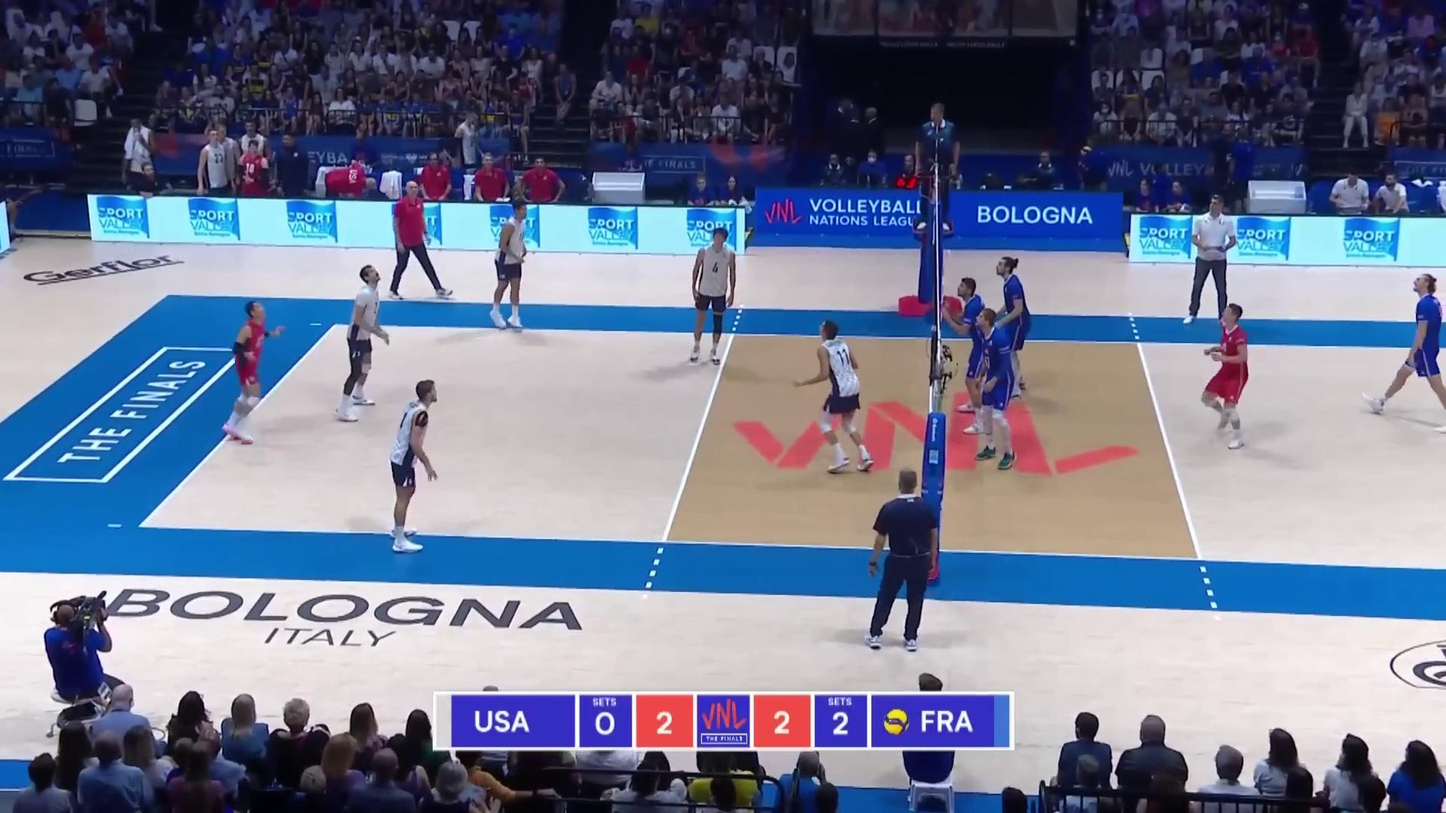player: (1361, 275, 1446, 432), (800, 321, 871, 472), (334, 265, 388, 428), (394, 384, 447, 550), (965, 307, 1017, 469), (224, 299, 281, 446), (943, 279, 992, 434), (1204, 304, 1255, 448), (683, 226, 734, 367), (990, 257, 1033, 398), (491, 200, 532, 333)
refree: (864, 471, 940, 650), (916, 106, 960, 231)
